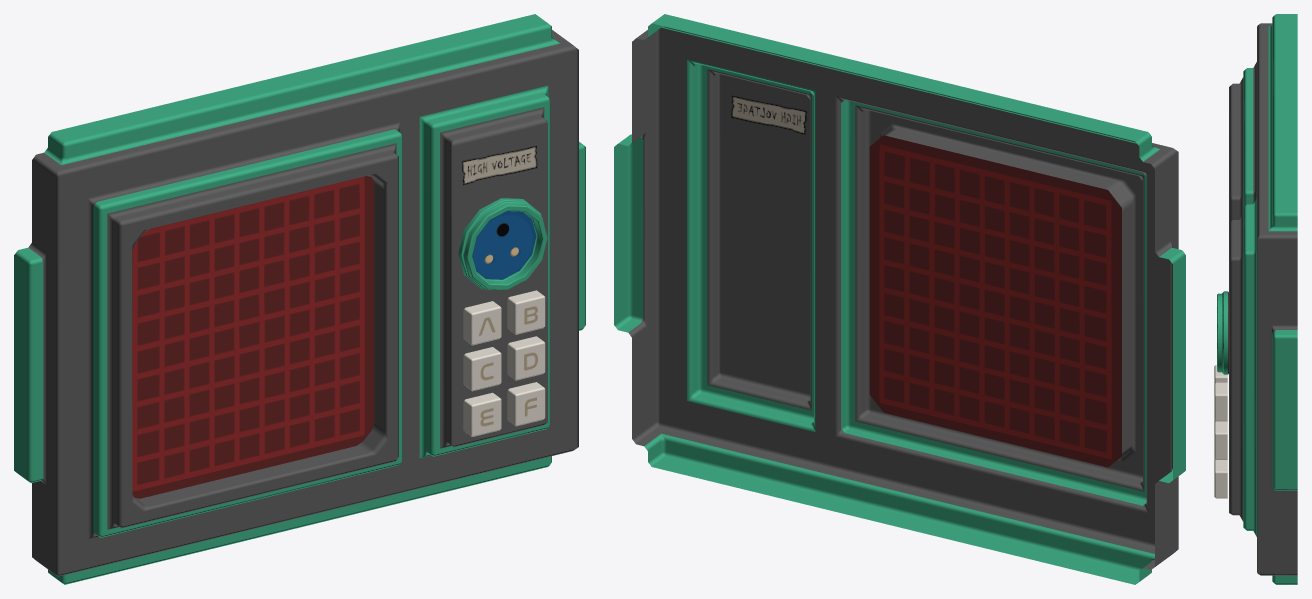
Rendered from PanelFBX.fbx.
The picture shows the model from 3 angles, left to right: view 1: azimuth 30°, elevation 25°; view 2: azimuth 150°, elevation 25°; view 3: azimuth 270°, elevation 25°; orthographic projection. The views are drawn at different scales.
Visible parts, largest first — view 1: Plane.006, Plane.007, Cube, Cylinder.002; view 2: Plane.006, Plane.007; view 3: Plane.006, Cube, Cylinder.002.
Boxes of the visible parts, x1=… form: Plane.006: x1=14, y1=14, x2=585, y2=584; Plane.007: x1=132, y1=176, x2=374, y2=498; Cube: x1=463, y1=290, x2=545, y2=436; Cylinder.002: x1=458, y1=198, x2=547, y2=289; Plane.006: x1=614, y1=14, x2=1185, y2=584; Plane.007: x1=869, y1=135, x2=1121, y2=467; Plane.006: x1=1229, y1=14, x2=1297, y2=584; Cube: x1=1214, y1=365, x2=1227, y2=498; Cylinder.002: x1=1217, y1=291, x2=1228, y2=374.
Size of the model in its own units: 288 by 219 by 44.29.
Materials: 1 (1 with a texture image).
